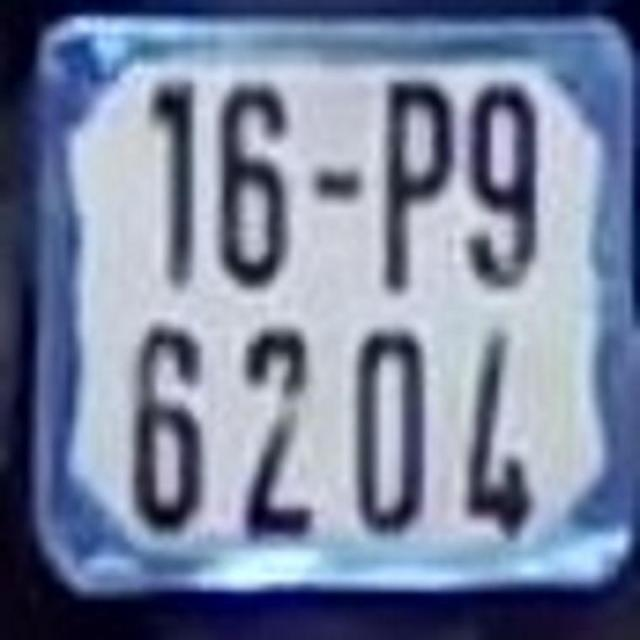0: (346, 320, 424, 533)
1: (144, 73, 203, 289)
2: (238, 314, 316, 541)
4: (458, 322, 538, 543)
6: (216, 76, 294, 286), (132, 314, 206, 533)
9: (462, 61, 542, 292)
P: (378, 64, 453, 298)
